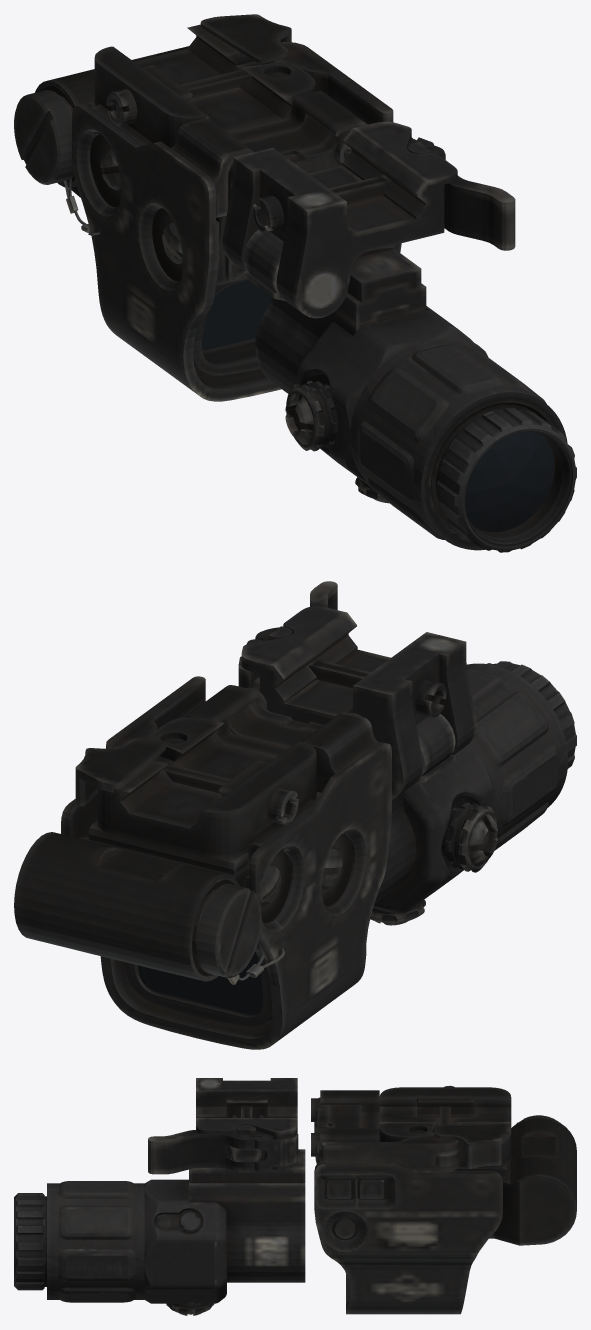
3 renders of one model, top to bottom at view 1: azimuth 30°, elevation 25°; view 2: azimuth 150°, elevation 25°; view 3: azimuth 270°, elevation 25°, orthographic. The views are drawn at different scales.
Parts seen in each view (by area): view 1: TW_5c07dd120db834001c39092d_PZ_Import; view 2: TW_5c07dd120db834001c39092d_PZ_Import; view 3: TW_5c07dd120db834001c39092d_PZ_Import.
Part boxes in pixels (<box>): TW_5c07dd120db834001c39092d_PZ_Import: <box>14,14,576,552</box>; TW_5c07dd120db834001c39092d_PZ_Import: <box>14,581,576,1049</box>; TW_5c07dd120db834001c39092d_PZ_Import: <box>14,1078,576,1315</box>.
Size of the model in its own units: 0.0322 by 0.1108 by 0.045.
Materials: 1 (1 with a texture image).
